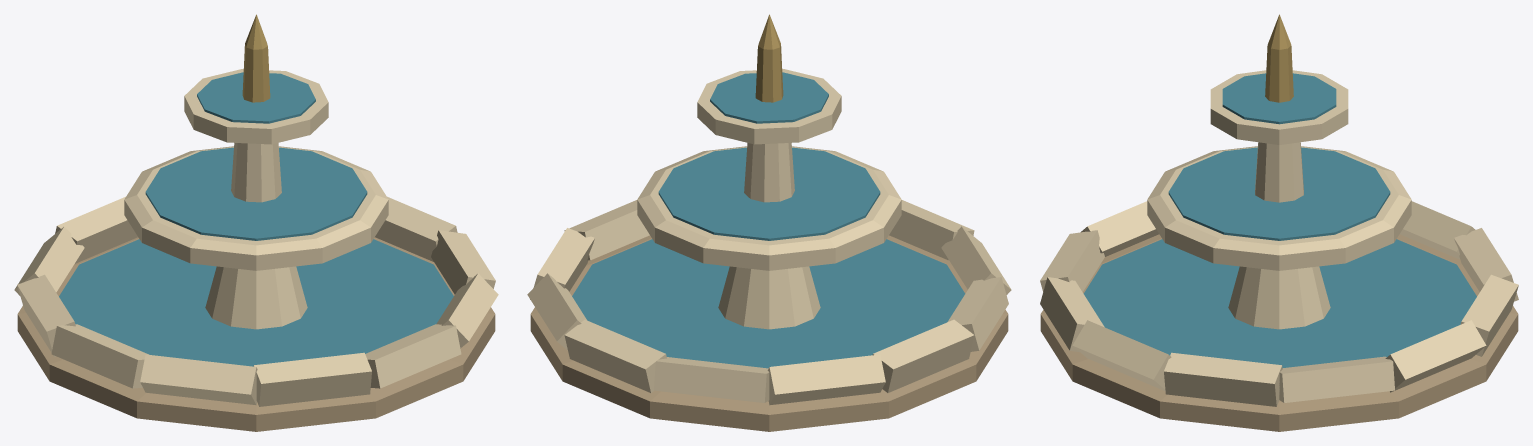
The model's file is Royal_Fountain.fbx.
3 views of the same model, side by side, from view 1: azimuth 30°, elevation 25°; view 2: azimuth 150°, elevation 25°; view 3: azimuth 270°, elevation 25° (orthographic).
Parts seen in each view (by area): view 1: Royal_Fountain; view 2: Royal_Fountain; view 3: Royal_Fountain.
Boxes of the visible parts, x1=… form: Royal_Fountain: x1=14, y1=14, x2=498, y2=431; Royal_Fountain: x1=527, y1=14, x2=1011, y2=431; Royal_Fountain: x1=1040, y1=14, x2=1518, y2=431.
Size of the model in its own units: 5.61 by 4.1 by 5.61.
